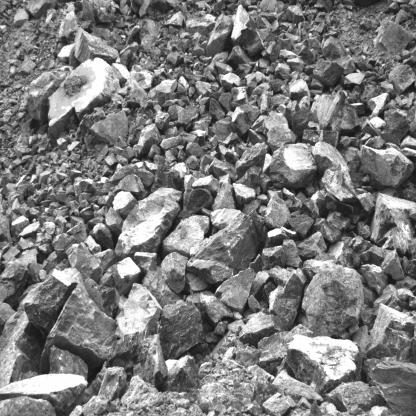stone: (48, 59, 120, 145), (186, 208, 259, 283), (46, 288, 116, 366), (301, 261, 365, 337), (115, 188, 182, 255), (284, 335, 362, 392), (108, 283, 161, 360), (0, 373, 87, 416), (23, 271, 75, 329), (364, 303, 416, 361), (365, 358, 416, 416), (156, 299, 205, 359), (371, 192, 416, 251), (259, 325, 312, 371), (361, 145, 416, 188), (269, 268, 306, 331), (270, 142, 317, 188), (163, 214, 211, 256), (230, 5, 265, 58), (215, 267, 254, 313), (74, 28, 121, 66), (273, 369, 327, 402), (320, 90, 361, 132), (327, 381, 382, 411), (137, 334, 168, 386), (143, 266, 183, 306), (84, 276, 120, 316), (103, 257, 141, 294), (122, 372, 159, 409), (67, 243, 103, 281), (236, 313, 278, 344), (321, 165, 356, 202), (48, 346, 87, 379), (92, 109, 127, 145), (233, 141, 268, 176), (199, 289, 233, 325), (166, 355, 199, 392), (206, 13, 233, 57), (313, 141, 351, 172), (159, 252, 186, 293), (380, 109, 410, 145), (98, 366, 129, 400), (231, 104, 259, 139), (182, 188, 214, 218), (133, 124, 161, 158), (111, 164, 154, 186), (151, 166, 185, 192), (265, 195, 290, 230), (296, 231, 328, 258), (386, 65, 415, 94), (313, 59, 344, 86), (148, 79, 178, 106), (263, 393, 298, 416), (360, 264, 388, 292), (268, 125, 299, 150), (313, 217, 342, 243), (140, 18, 162, 52), (53, 232, 78, 260), (212, 183, 237, 210), (381, 250, 404, 279), (112, 190, 137, 216), (168, 103, 200, 123), (59, 12, 81, 41), (115, 173, 145, 194), (104, 208, 124, 238), (322, 37, 346, 62), (368, 92, 391, 118), (292, 110, 315, 136), (261, 112, 289, 133), (289, 214, 314, 237), (325, 210, 350, 233), (283, 239, 303, 267), (303, 129, 338, 145), (126, 83, 148, 108), (226, 46, 251, 68), (82, 395, 108, 416), (359, 246, 389, 264), (134, 252, 158, 274), (91, 224, 113, 248), (208, 159, 237, 177), (210, 117, 232, 140), (288, 78, 311, 100), (261, 247, 286, 267), (92, 249, 118, 268), (191, 175, 220, 192), (233, 181, 254, 204), (300, 196, 320, 220), (356, 192, 376, 214), (10, 215, 30, 236), (334, 55, 356, 74), (270, 267, 292, 286), (253, 270, 269, 296), (230, 86, 249, 107), (18, 222, 41, 239), (285, 5, 305, 24), (160, 134, 183, 150), (84, 235, 102, 254), (219, 146, 239, 163), (155, 109, 170, 131), (401, 257, 416, 279), (2, 244, 20, 262), (297, 46, 315, 64), (58, 44, 75, 63), (167, 45, 183, 65), (220, 72, 240, 88), (209, 99, 225, 119), (344, 73, 365, 88), (27, 262, 42, 282), (20, 247, 38, 263), (165, 11, 184, 26), (247, 294, 262, 313), (395, 276, 416, 289), (353, 55, 371, 70), (286, 58, 304, 73), (14, 7, 28, 26), (255, 17, 271, 33), (222, 131, 238, 147), (269, 78, 285, 94), (195, 81, 211, 97), (79, 178, 96, 193), (39, 167, 53, 185), (359, 17, 378, 30), (212, 321, 228, 336), (191, 129, 206, 145), (173, 162, 189, 177), (187, 142, 203, 157), (120, 146, 135, 162), (219, 93, 231, 112), (41, 220, 56, 235), (275, 63, 290, 78), (98, 194, 114, 208), (18, 237, 34, 251), (183, 174, 196, 191), (147, 145, 161, 160), (22, 59, 36, 74), (185, 156, 199, 171), (271, 95, 290, 106), (104, 152, 117, 168), (396, 287, 412, 300), (260, 93, 270, 113), (80, 206, 94, 220), (93, 205, 108, 218), (87, 216, 104, 227), (371, 136, 385, 149), (68, 223, 83, 235), (163, 126, 179, 137), (164, 150, 177, 163), (66, 141, 80, 153), (351, 102, 366, 113), (370, 117, 385, 128), (279, 50, 297, 59), (66, 170, 82, 180), (101, 165, 113, 178), (69, 216, 84, 226), (56, 137, 68, 149), (304, 63, 317, 74), (114, 137, 127, 148), (54, 193, 68, 203), (28, 207, 38, 220), (58, 163, 69, 174), (255, 72, 265, 84), (200, 97, 210, 109), (145, 161, 157, 171), (68, 153, 81, 162), (191, 170, 204, 179), (271, 19, 279, 32), (198, 104, 206, 115)
